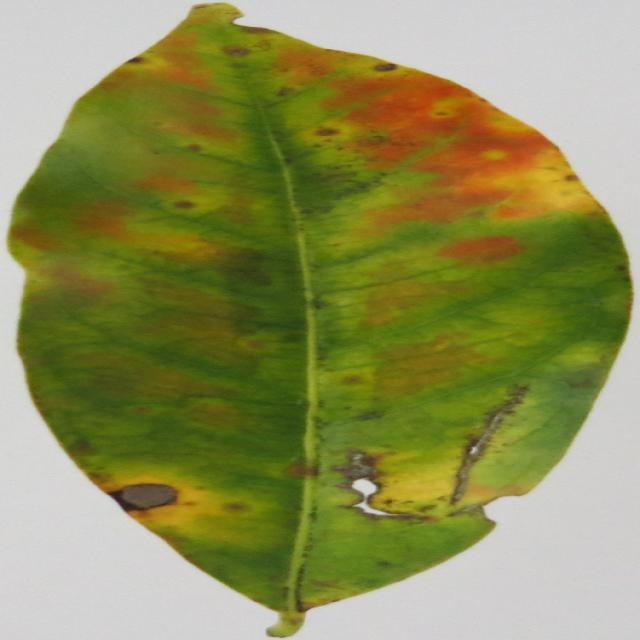DeficienciaNutricional-Fosforo: (10, 4, 627, 634)
